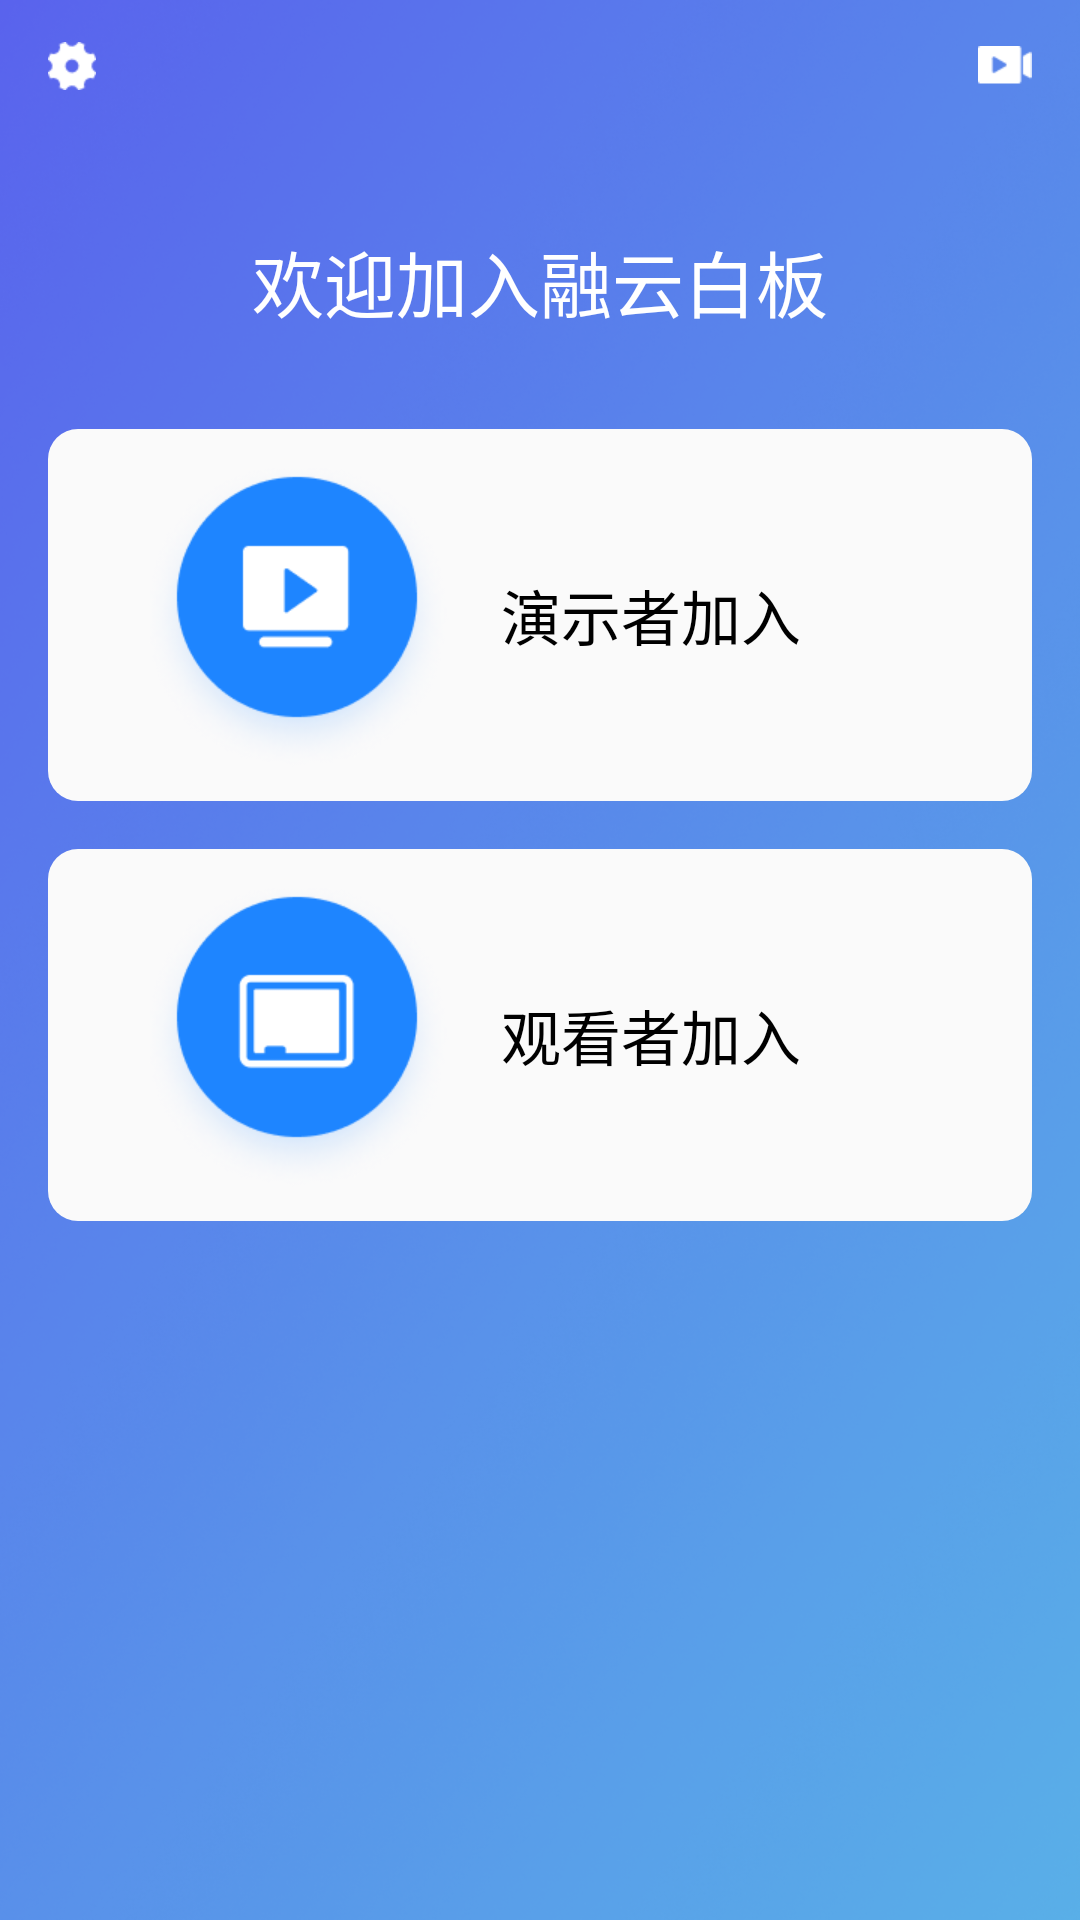

Named icons in this screenshot (1080w x 1920h) and their bounding boxes, (x1, y1, x2, y2):
record: (978, 46, 1032, 84)
setting: (48, 42, 96, 90)
